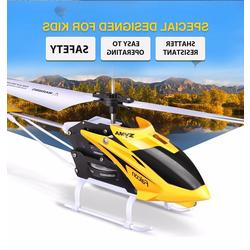drone: (7, 76, 243, 231)
